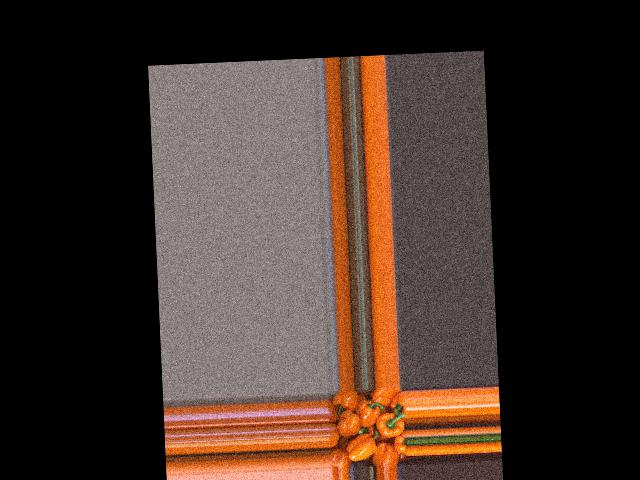bell_pepper: (326, 397, 345, 428)
